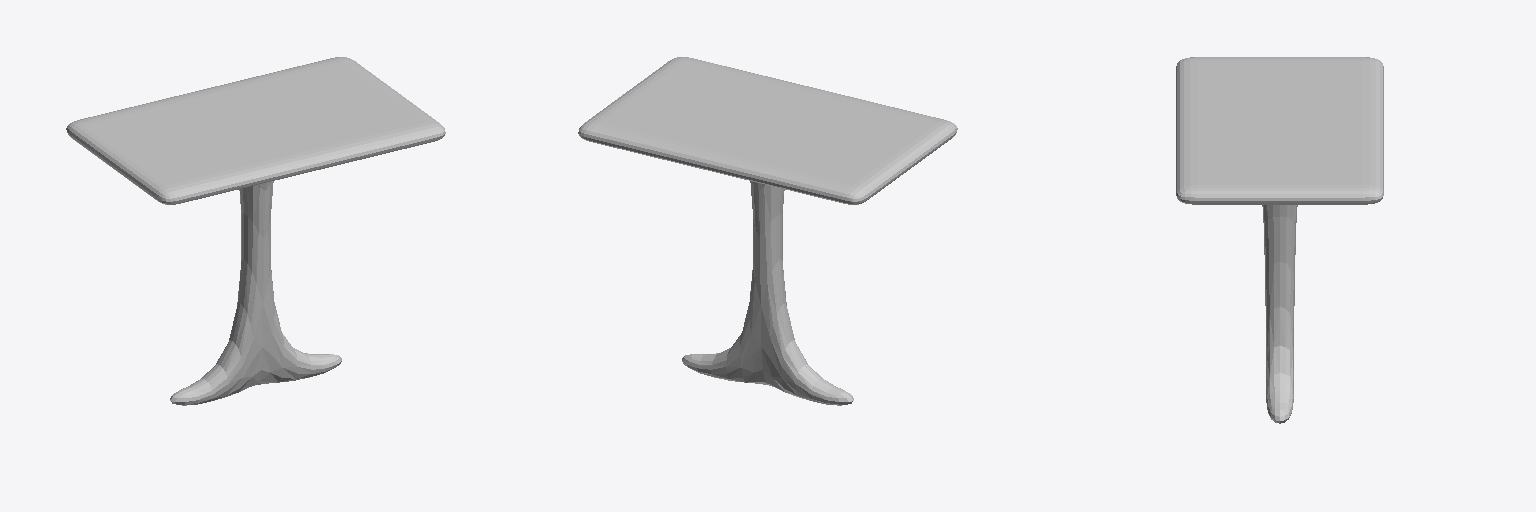
Rendered from table.obj.
3 views of the same model, side by side, from view 1: azimuth 30°, elevation 25°; view 2: azimuth 150°, elevation 25°; view 3: azimuth 270°, elevation 25° (orthographic).
Parts seen in each view (by area): view 1: pCube1; view 2: pCube1; view 3: pCube1.
Part boxes in pixels (bbox=[...]): pCube1: bbox=[66, 57, 445, 405]; pCube1: bbox=[578, 57, 957, 405]; pCube1: bbox=[1176, 57, 1383, 423].
Size of the model in its own units: 14.37 by 12.74 by 9.05.